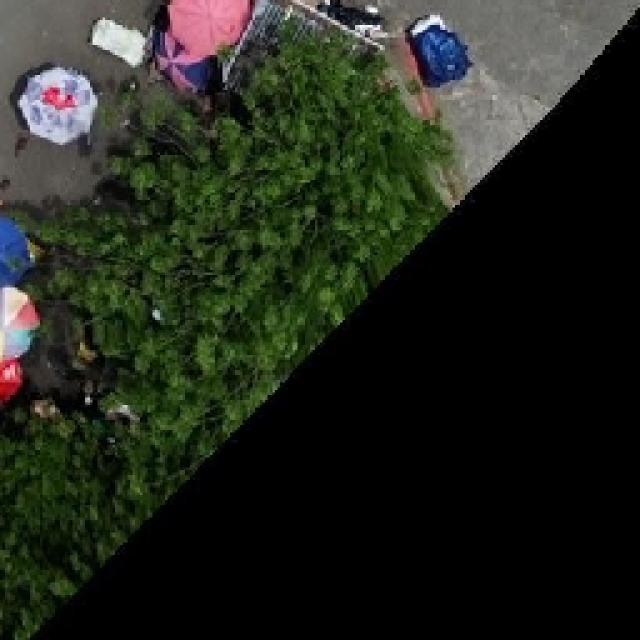vendedor_ambulante: (13, 62, 103, 149), (163, 0, 253, 58), (155, 28, 206, 102), (0, 278, 38, 360), (0, 208, 32, 297)
